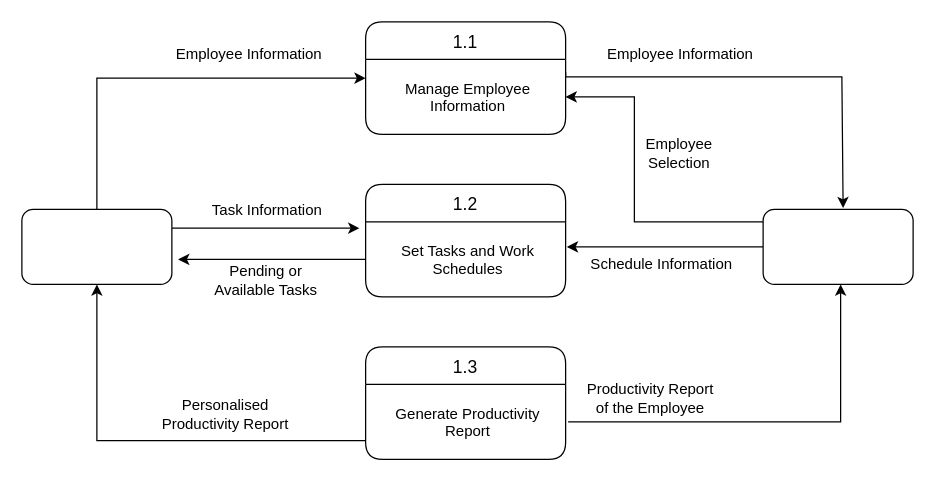
This 935x481 diagram has some shape labels left out. The box of each missing label's shape, as (x1, y1, x2, y2) in pixels:
Employee: (21, 208, 172, 284)
Manager: (762, 208, 913, 284)
